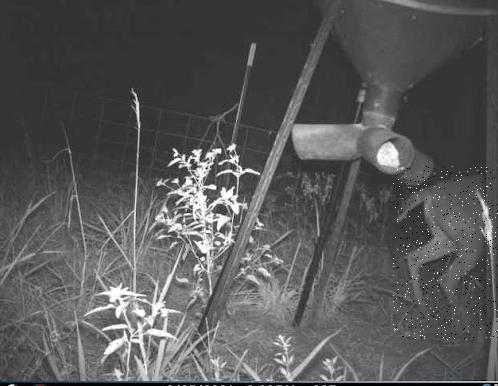Deer: (393, 166, 498, 340)
